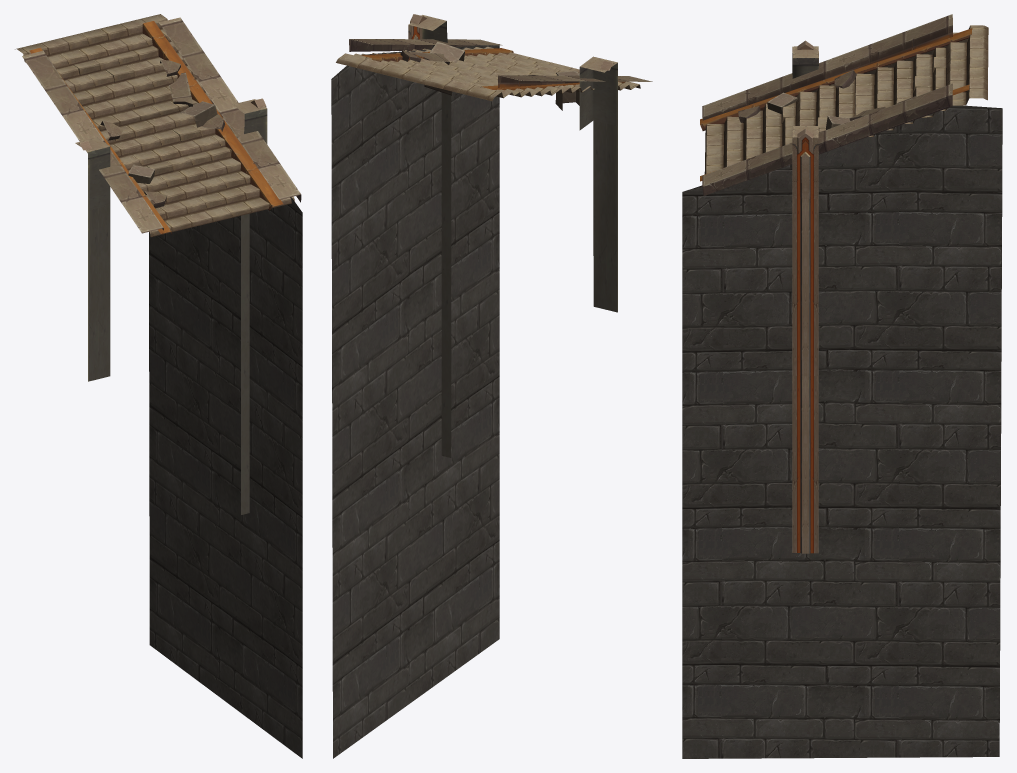
The model's file is section03_guanka09_dimian03.FBX.
3 renders of one model, left to right at view 1: azimuth 30°, elevation 25°; view 2: azimuth 150°, elevation 25°; view 3: azimuth 270°, elevation 25°, orthographic. The views are drawn at different scales.
Visible parts, largest first — view 1: section03_guanka09_dimian03; view 2: section03_guanka09_dimian03; view 3: section03_guanka09_dimian03.
Boxes of the visible parts, box(x1,y1,x2,y2) form: section03_guanka09_dimian03: box(15, 14, 302, 758); section03_guanka09_dimian03: box(331, 14, 652, 758); section03_guanka09_dimian03: box(682, 14, 1002, 758).
Bounding box in the file's own units: 11.38 × 16.57 × 38.18.
